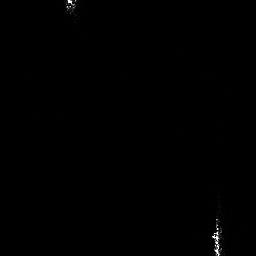ship: (208, 215, 224, 256)
